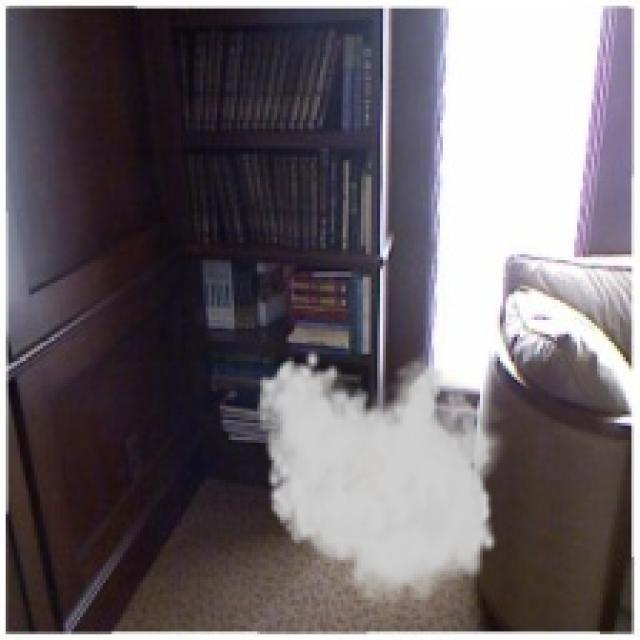Smoke: (254, 348, 512, 614)
